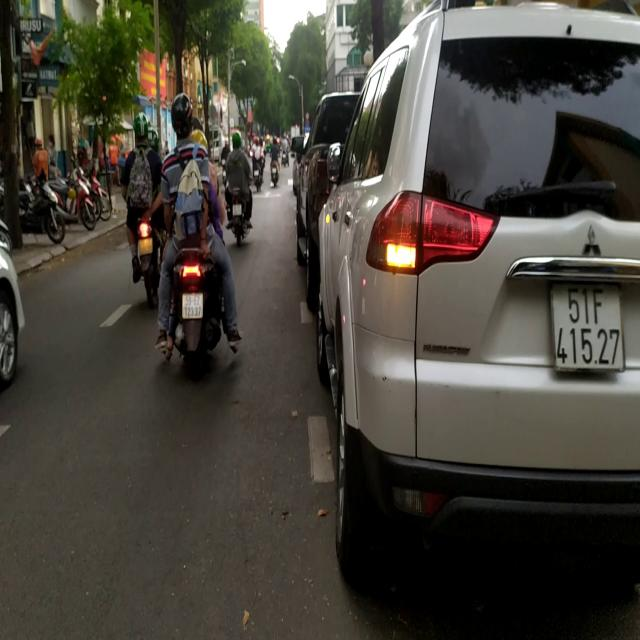bien_trang: (550, 282, 627, 381), (178, 290, 204, 320)
